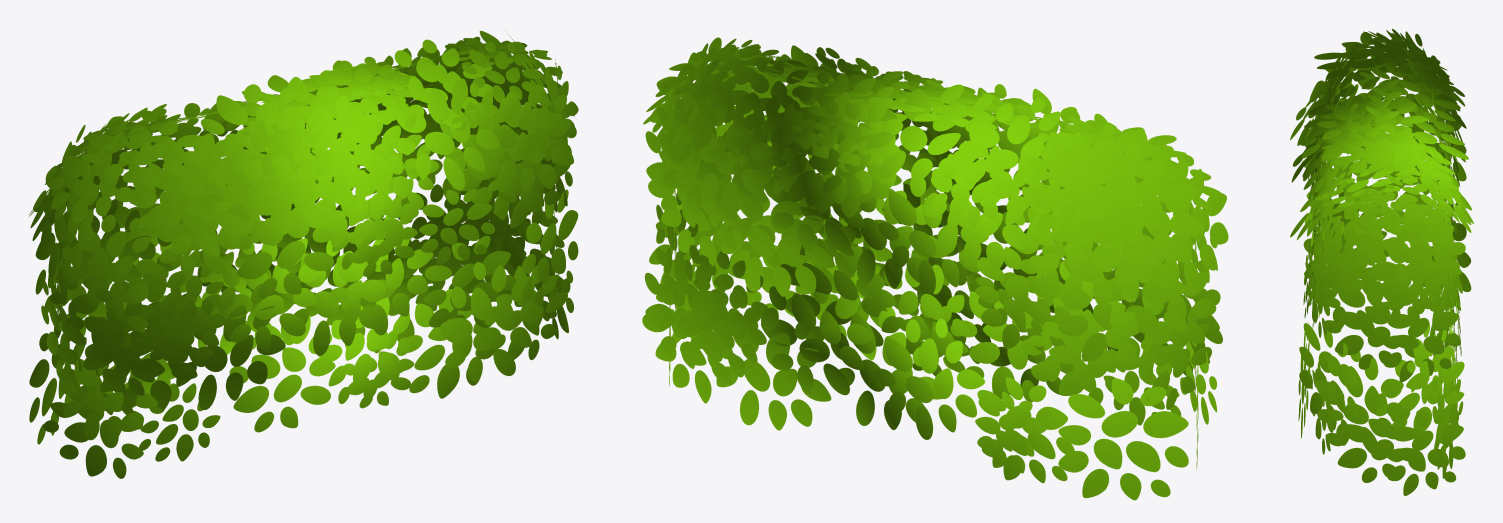
Rendered from bush-large.glb.
3 renders of one model, left to right at view 1: azimuth 30°, elevation 25°; view 2: azimuth 150°, elevation 25°; view 3: azimuth 270°, elevation 25°, orthographic. The views are drawn at different scales.
Visible parts, largest first — view 1: Bush_Large; view 2: Bush_Large; view 3: Bush_Large.
Part boxes in pixels (x1=…): Bush_Large: x1=29, y1=30, x2=578, y2=478; Bush_Large: x1=642, y1=37, x2=1228, y2=500; Bush_Large: x1=1290, y1=28, x2=1473, y2=495.
Size of the model in its own units: 1.9 by 1.22 by 0.7238.
Materials: 1 (1 with a texture image).
